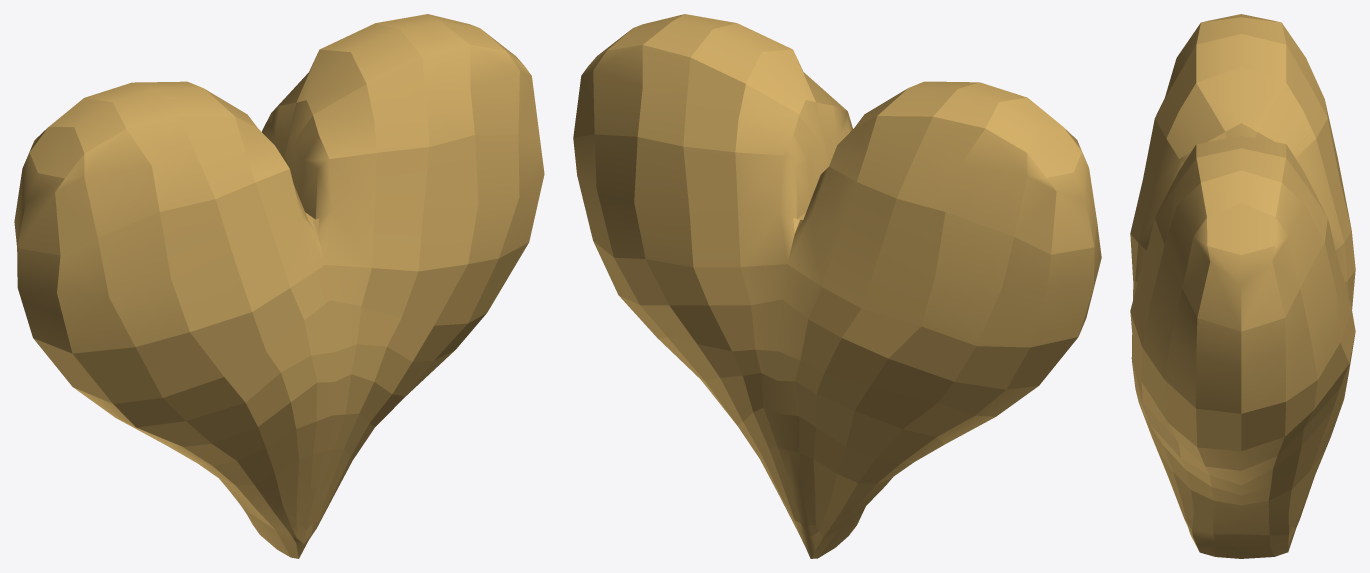
The model's file is heart.glb.
3 renders of one model, left to right at view 1: azimuth 30°, elevation 25°; view 2: azimuth 150°, elevation 25°; view 3: azimuth 270°, elevation 25°, orthographic. The views are drawn at different scales.
Visible parts, largest first — view 1: trans; view 2: trans; view 3: trans.
Boxes of the visible parts, x1,y1,x2,y2 form: trans: (14,14,544,558); trans: (573,14,1101,558); trans: (1130,14,1355,558).
Size of the model in its own units: 14.24 by 12.83 by 5.6.
